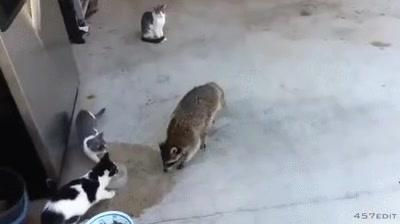raccoon: (159, 82, 227, 175)
